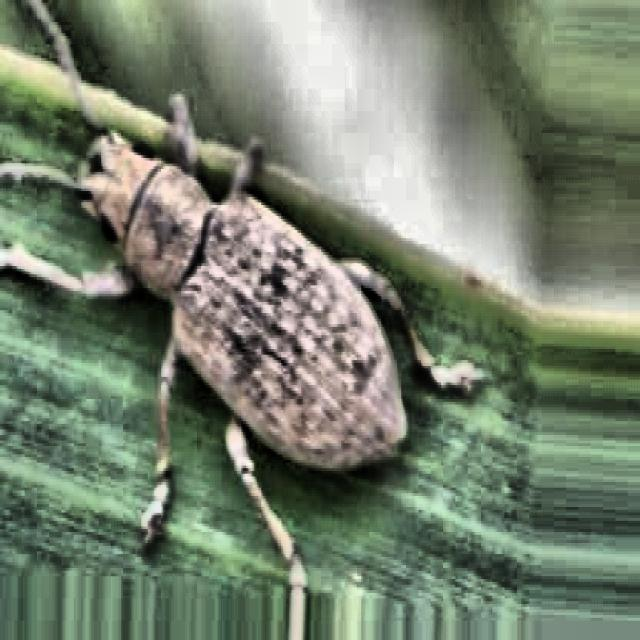Stink bug: (10, 51, 460, 602)
